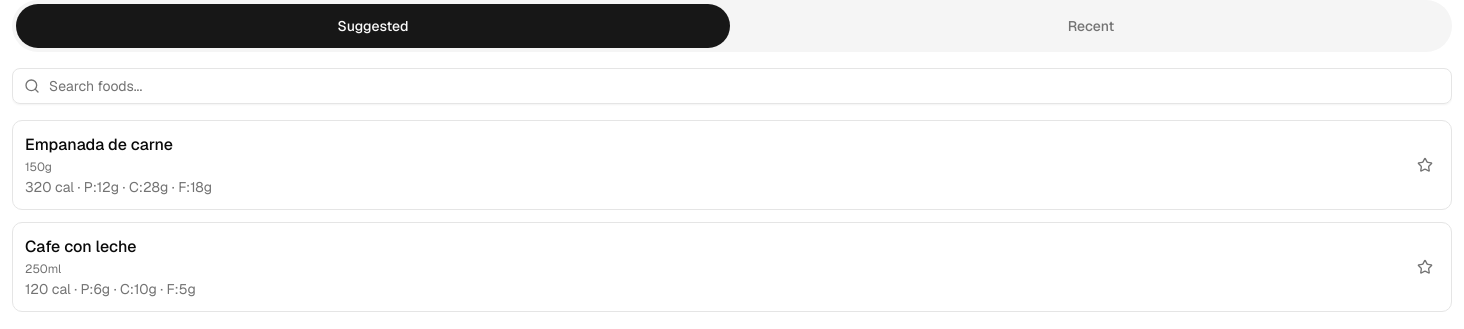
Scenario: QuickSelect › search › shows search results replacing tab content
Check: the text "Empanada de carne" is shown, box [25,134,173,155]
Type "humita" into the field with placeholder "Search foods...". click: (732, 86)
box: [12,68,1452,104]
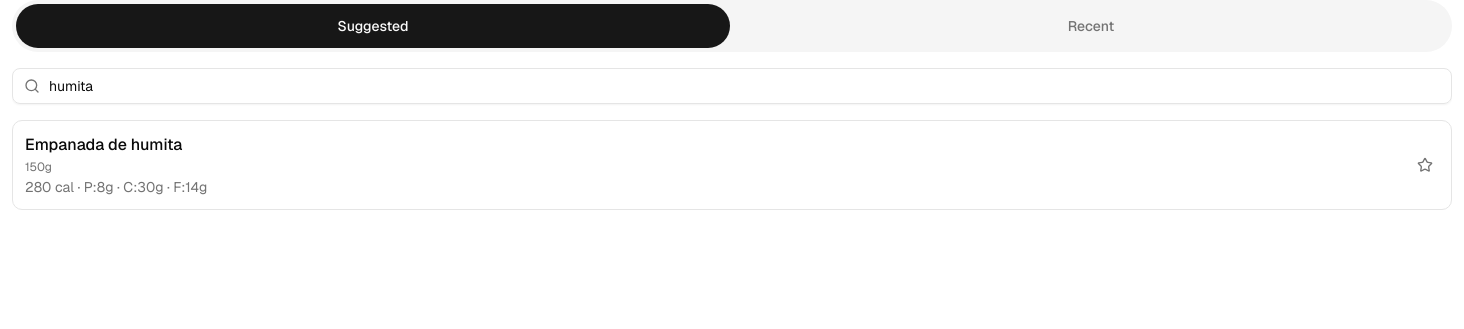
Check: the text "Empanada de humita" is shown, box [25,134,182,155]
